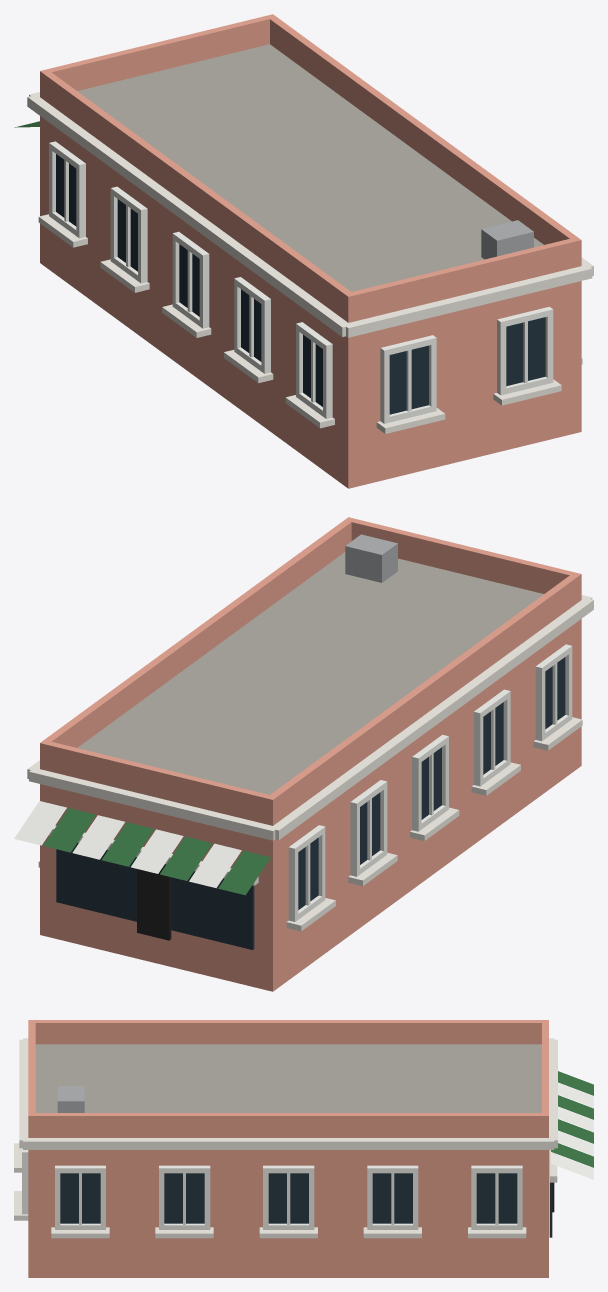
3 views of the same model, one above another, from view 1: azimuth 30°, elevation 25°; view 2: azimuth 150°, elevation 25°; view 3: azimuth 270°, elevation 25° (orthographic). The views are drawn at different scales.
Parts seen in each view (by area): view 1: b6778; view 2: b6778; view 3: b6778.
Boxes of the visible parts, left/top/right/bottom form: b6778: left=14, top=14, right=593, bottom=488; b6778: left=14, top=517, right=593, bottom=991; b6778: left=14, top=1020, right=593, bottom=1277.
Bounding box in the file's own units: 2849 × 2020 × 6460.
